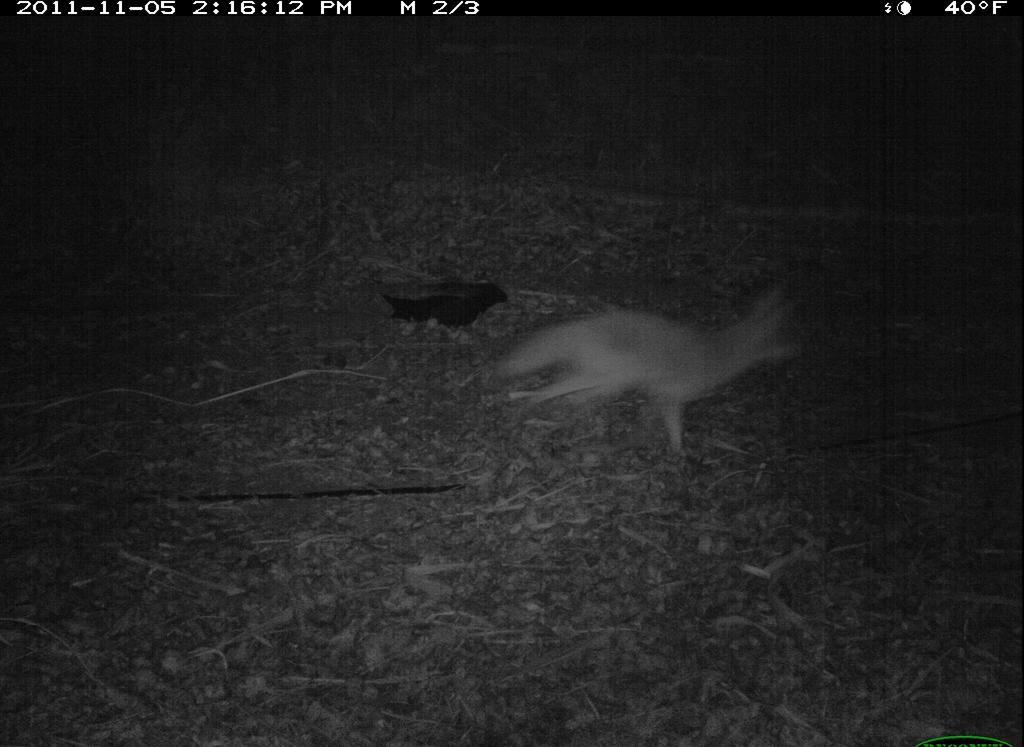coyote: (472, 277, 818, 500)
